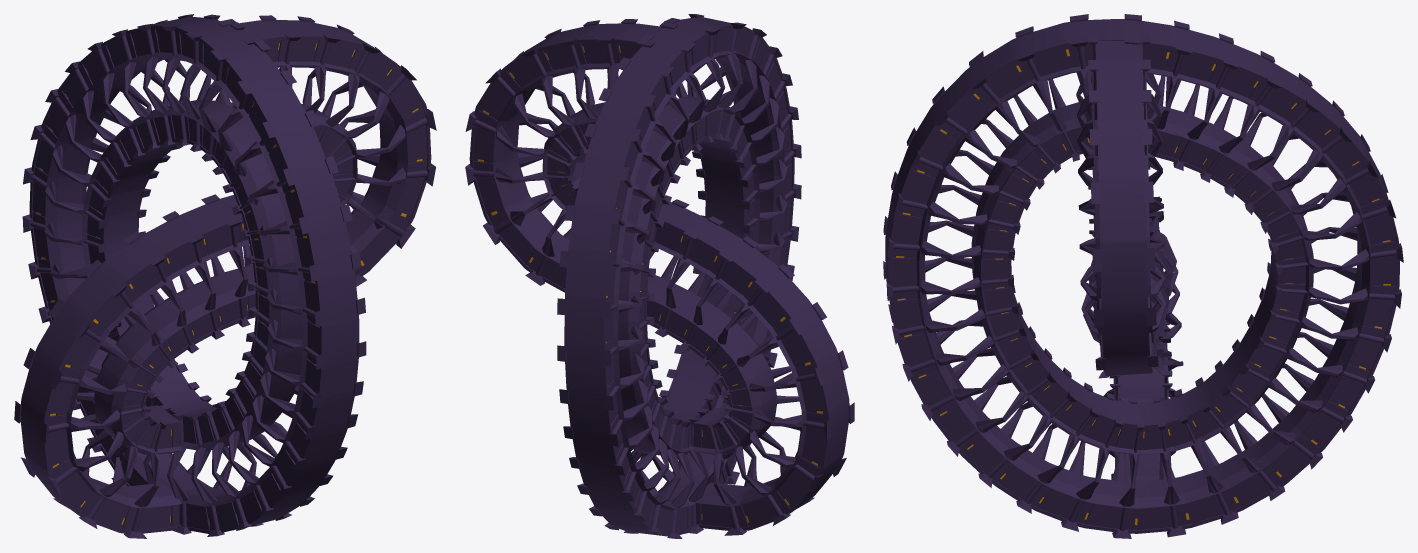
Rendered from through the loop_4.fbx.
The picture shows the model from 3 angles, left to right: view 1: azimuth 30°, elevation 25°; view 2: azimuth 150°, elevation 25°; view 3: azimuth 270°, elevation 25°; orthographic projection. The views are drawn at different scales.
Visible parts, largest first — view 1: Cube.012; view 2: Cube.012; view 3: Cube.012.
Boxes of the visible parts, left/top/right/bottom form: Cube.012: left=14, top=14, right=436, bottom=538; Cube.012: left=465, top=14, right=854, bottom=538; Cube.012: left=883, top=14, right=1403, bottom=538.
Bounding box in the file's own units: 515 × 627 × 580.
